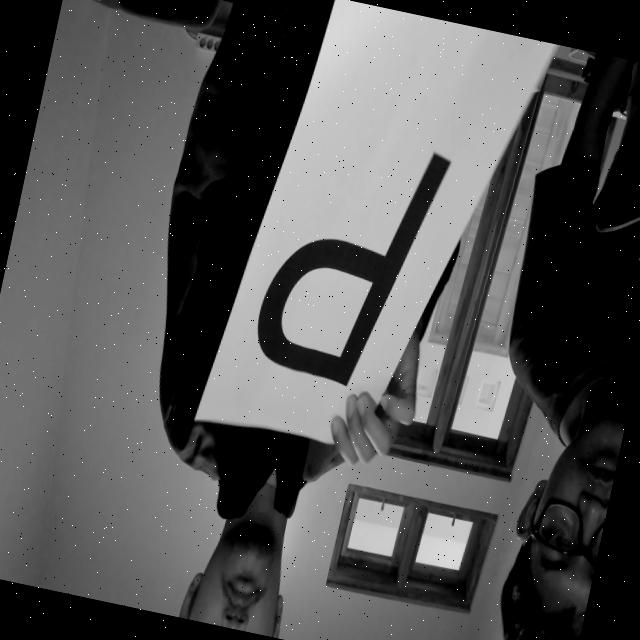p: (235, 67, 468, 429)
